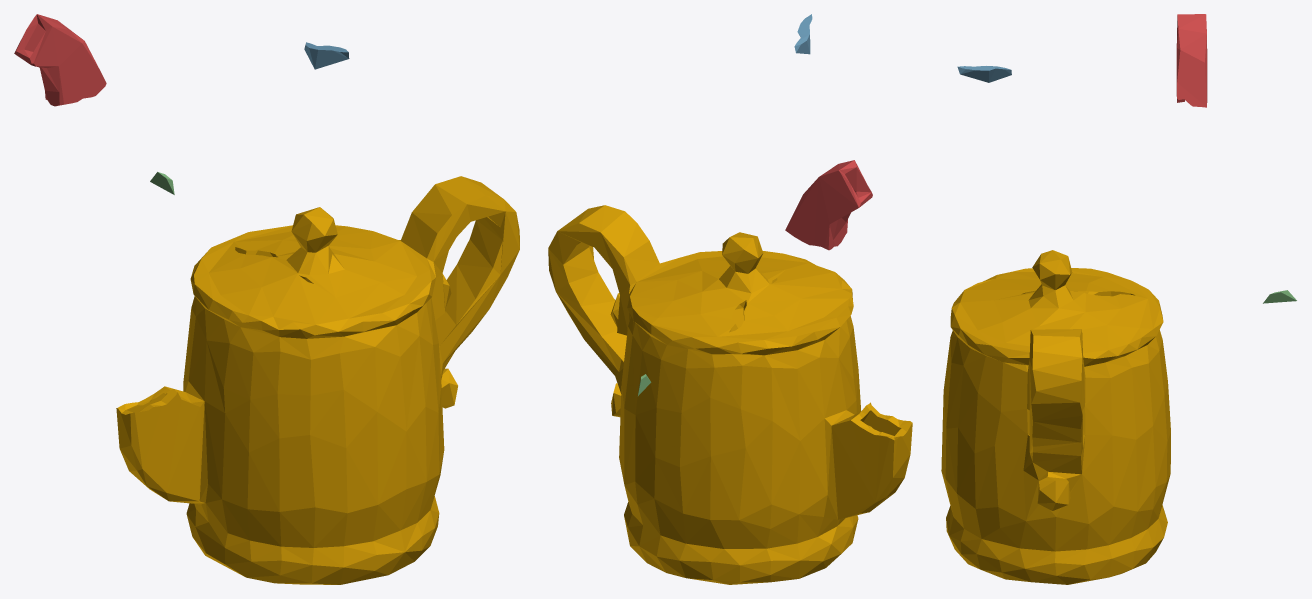
Rendered from fractured_75_4pcs_transformed.glb.
The picture shows the model from 3 angles, left to right: view 1: azimuth 30°, elevation 25°; view 2: azimuth 150°, elevation 25°; view 3: azimuth 270°, elevation 25°; orthographic projection. The views are drawn at different scales.
Visible parts, largest first — view 1: piece_0.obj, piece_1.obj, piece_2.obj; view 2: piece_0.obj, piece_1.obj, piece_2.obj; view 3: piece_0.obj, piece_1.obj, piece_2.obj.
Boxes of the visible parts, x1,y1,x2,y2 form: piece_0.obj: [116, 176, 519, 584]; piece_1.obj: [14, 14, 106, 106]; piece_2.obj: [304, 42, 349, 69]; piece_0.obj: [548, 205, 912, 584]; piece_1.obj: [785, 160, 872, 250]; piece_2.obj: [794, 14, 812, 54]; piece_0.obj: [941, 250, 1170, 584]; piece_1.obj: [1176, 14, 1207, 107]; piece_2.obj: [957, 66, 1011, 82].
Bounding box in the file's own units: 1 × 1.24 × 0.8588.
